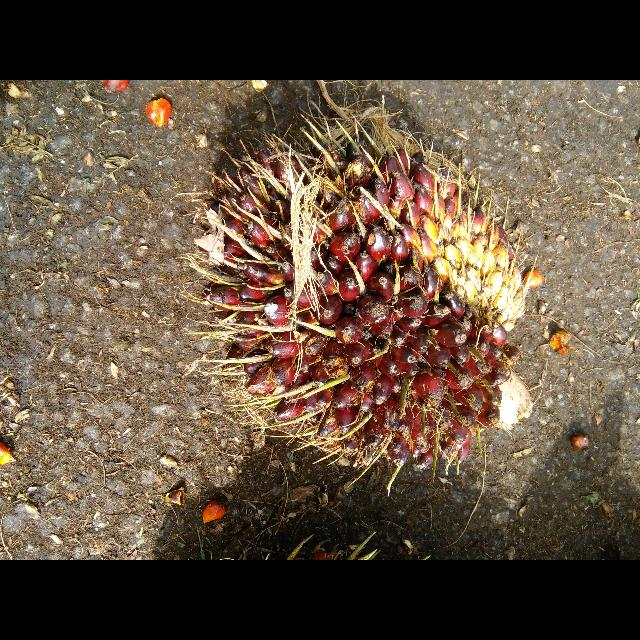Ripe: (193, 132, 544, 466)
